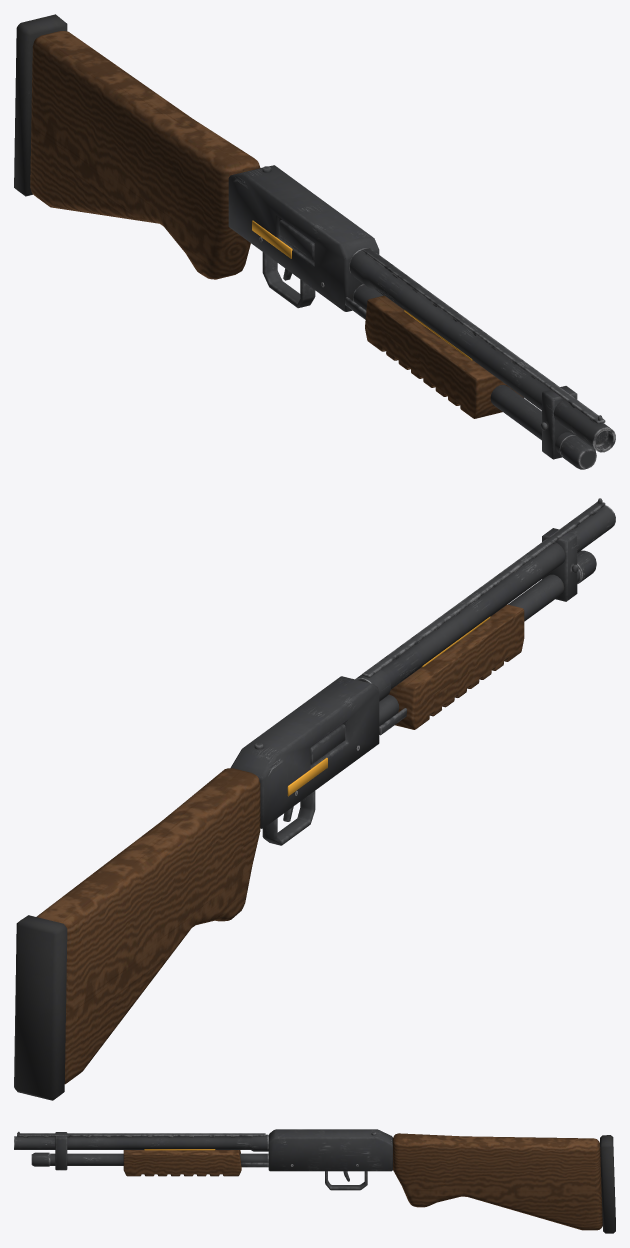
File: shotgun.glb
The picture shows the model from 3 angles, top to bottom: view 1: azimuth 30°, elevation 25°; view 2: azimuth 150°, elevation 25°; view 3: azimuth 270°, elevation 25°; orthographic projection. The views are drawn at different scales.
Visible parts, largest first — view 1: Stock, Receiver, Pump, Barrel, RecoilPad, MagTube, Rib, BarrelClamp, TriggerGuard, Bolt, AccentInlay; view 2: Stock, Receiver, RecoilPad, Pump, Barrel, Rib, MagTube, BarrelClamp, TriggerGuard; view 3: Stock, Receiver, Barrel, Pump, MagTube, RecoilPad, Rib, BarrelClamp, TriggerGuard.
Part boxes in pixels (left/top/right/bottom): Stock: left=30, top=31, right=260, bottom=279; Receiver: left=228, top=165, right=379, bottom=311; Pump: left=365, top=295, right=523, bottom=418; Barrel: left=349, top=248, right=615, bottom=452; RecoilPad: left=14, top=14, right=67, bottom=196; MagTube: left=353, top=284, right=596, bottom=469; Rib: left=362, top=247, right=605, bottom=424; BarrelClamp: left=540, top=386, right=577, bottom=459; TriggerGuard: left=262, top=252, right=315, bottom=308; Bolt: left=279, top=220, right=314, bottom=260; AccentInlay: left=252, top=220, right=472, bottom=360; Stock: left=36, top=768, right=260, bottom=1084; Receiver: left=230, top=676, right=379, bottom=828; RecoilPad: left=14, top=915, right=67, bottom=1100; Pump: left=389, top=604, right=524, bottom=729; Barrel: left=355, top=505, right=615, bottom=701; Rib: left=362, top=501, right=605, bottom=677; MagTube: left=379, top=550, right=596, bottom=726; BarrelClamp: left=542, top=528, right=578, bottom=601; TriggerGuard: left=262, top=791, right=315, bottom=845; Stock: left=393, top=1133, right=602, bottom=1230; Receiver: left=268, top=1129, right=392, bottom=1171; Barrel: left=14, top=1134, right=268, bottom=1151; Pump: left=123, top=1150, right=241, bottom=1176; MagTube: left=31, top=1152, right=268, bottom=1166; RecoilPad: left=600, top=1135, right=615, bottom=1233; Rib: left=17, top=1133, right=265, bottom=1137; BarrelClamp: left=55, top=1132, right=67, bottom=1170; TriggerGuard: left=325, top=1171, right=367, bottom=1190.
Size of the model in its own units: 0.05 by 0.1815 by 1.02.
Materials: 4 (3 with a texture image).
